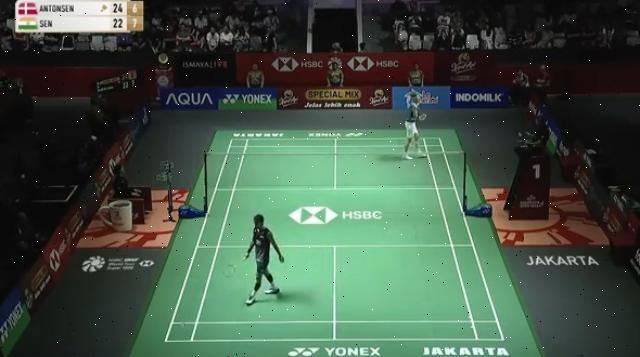Shuttlecock: (175, 320, 189, 330)
